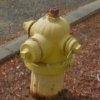Hydrant: (16, 2, 82, 96)
